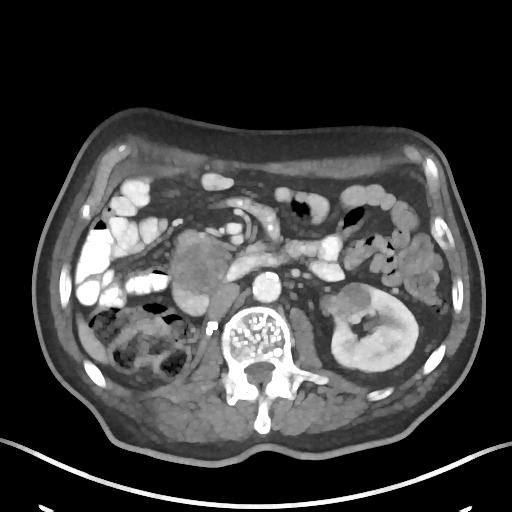Lesion: (324, 283, 373, 318)
